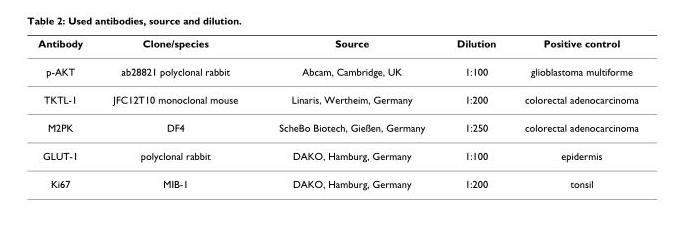table: (37, 36, 637, 189)
table column: (257, 36, 440, 189), (97, 36, 257, 189), (509, 36, 637, 189), (440, 36, 509, 189), (37, 36, 97, 189)
table column header: (37, 36, 637, 57)
table row: (37, 57, 637, 85), (37, 85, 637, 113), (37, 113, 637, 141), (37, 141, 637, 169), (37, 36, 637, 57), (37, 169, 637, 189)
